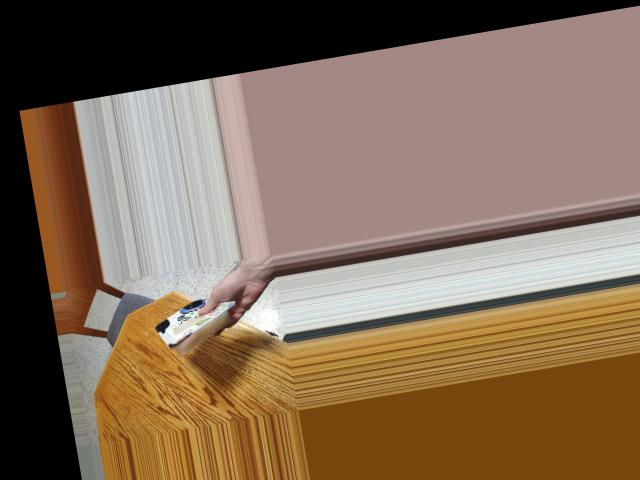cheese: (153, 282, 230, 356)
